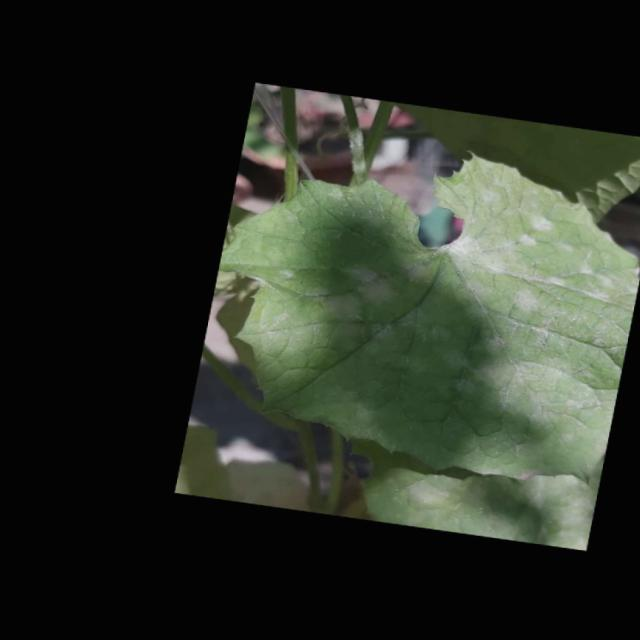Powdery_Mildew: (220, 151, 640, 552)
